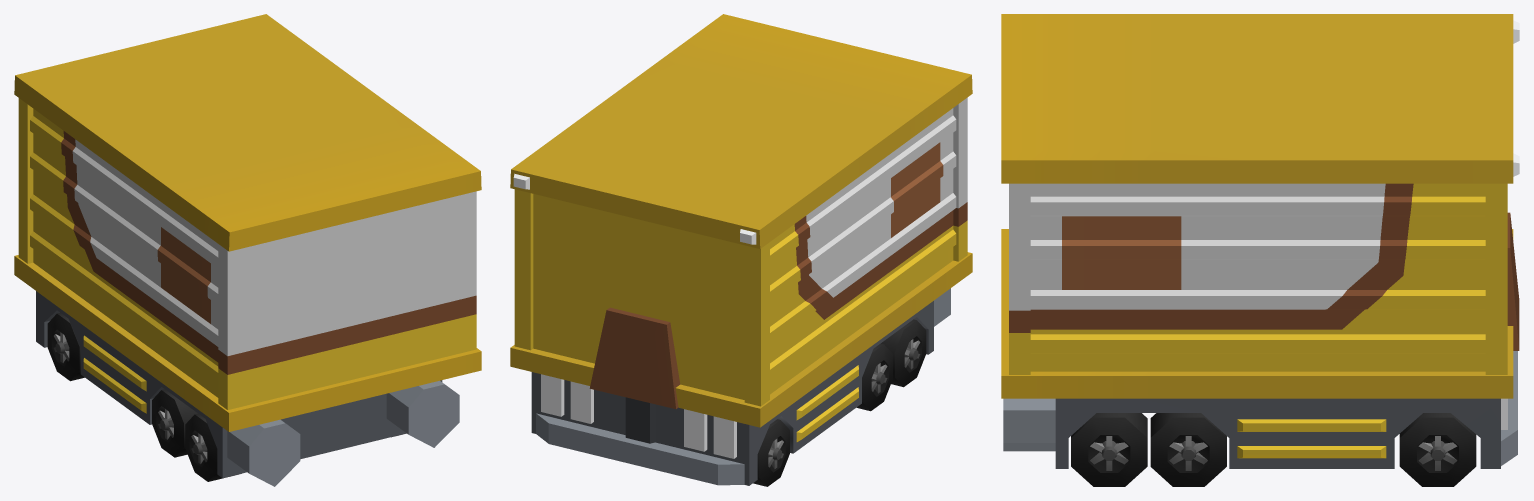
Rendered from cargo_03_E_2.fbx.
3 renders of one model, left to right at view 1: azimuth 30°, elevation 25°; view 2: azimuth 150°, elevation 25°; view 3: azimuth 270°, elevation 25°, orthographic. The views are drawn at different scales.
Parts seen in each view (by area): view 1: cargo_03_E_2; view 2: cargo_03_E_2; view 3: cargo_03_E_2.
Part boxes in pixels (x1=…): cargo_03_E_2: x1=14, y1=14, x2=481, y2=486; cargo_03_E_2: x1=510, y1=14, x2=972, y2=486; cargo_03_E_2: x1=1001, y1=14, x2=1519, y2=486.
Size of the model in its own units: 14.22 by 15.18 by 21.19.
